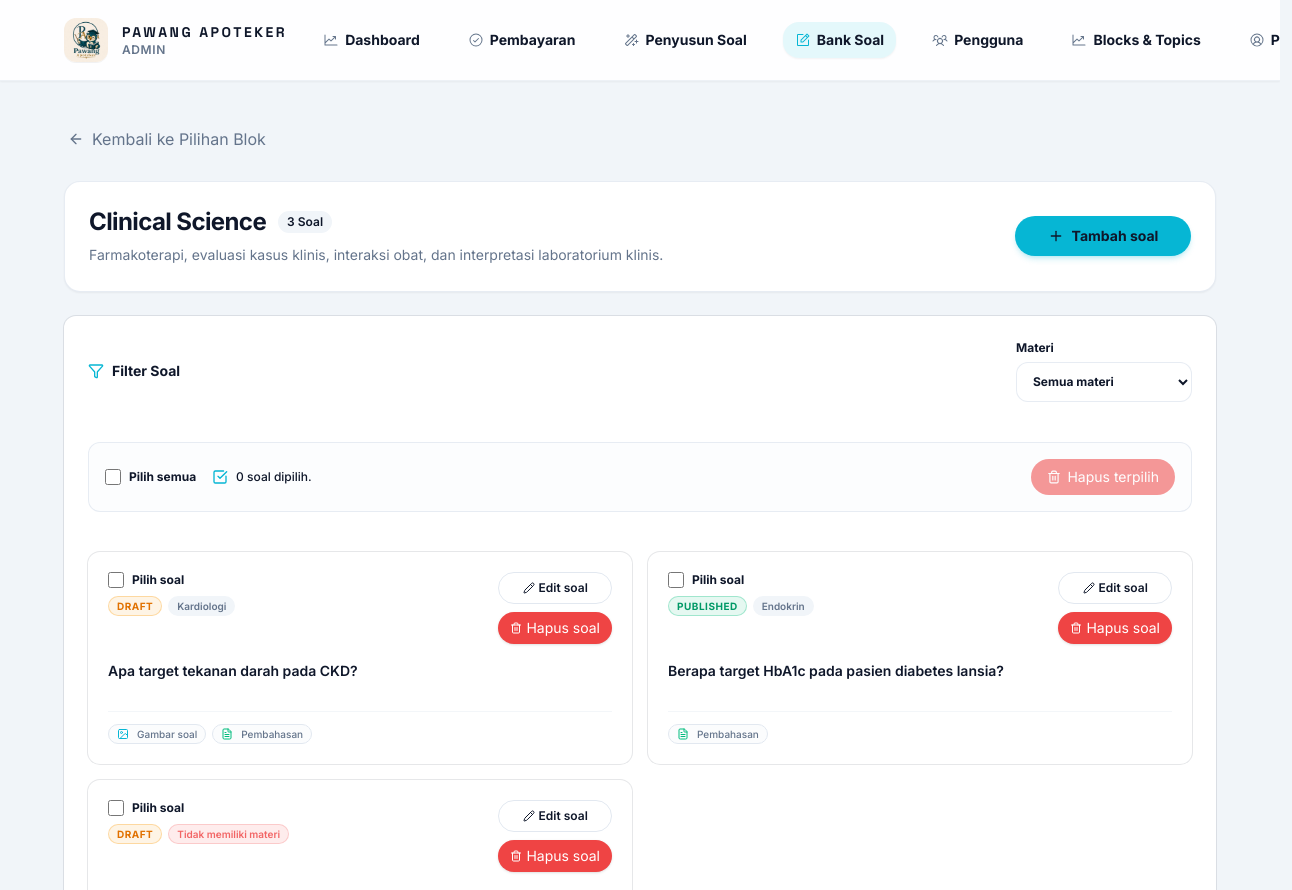
Test case: QuestionsPage - Block selection and list integration › clicking 'Kembali ke Pilihan Blok' navigates back to the 3 block cards
This screenshot has width=1292, height=890.
Expected: the heading "Clinical Science" is shown, [89,206,266,238]
Expected: the heading "Apa target tekanan darah pada CKD?" is shown, [108,662,358,679]
# Click back button
Step 1. Click the button "Kembali ke Pilihan Blok" → (167, 139), box [56,121,278,157]
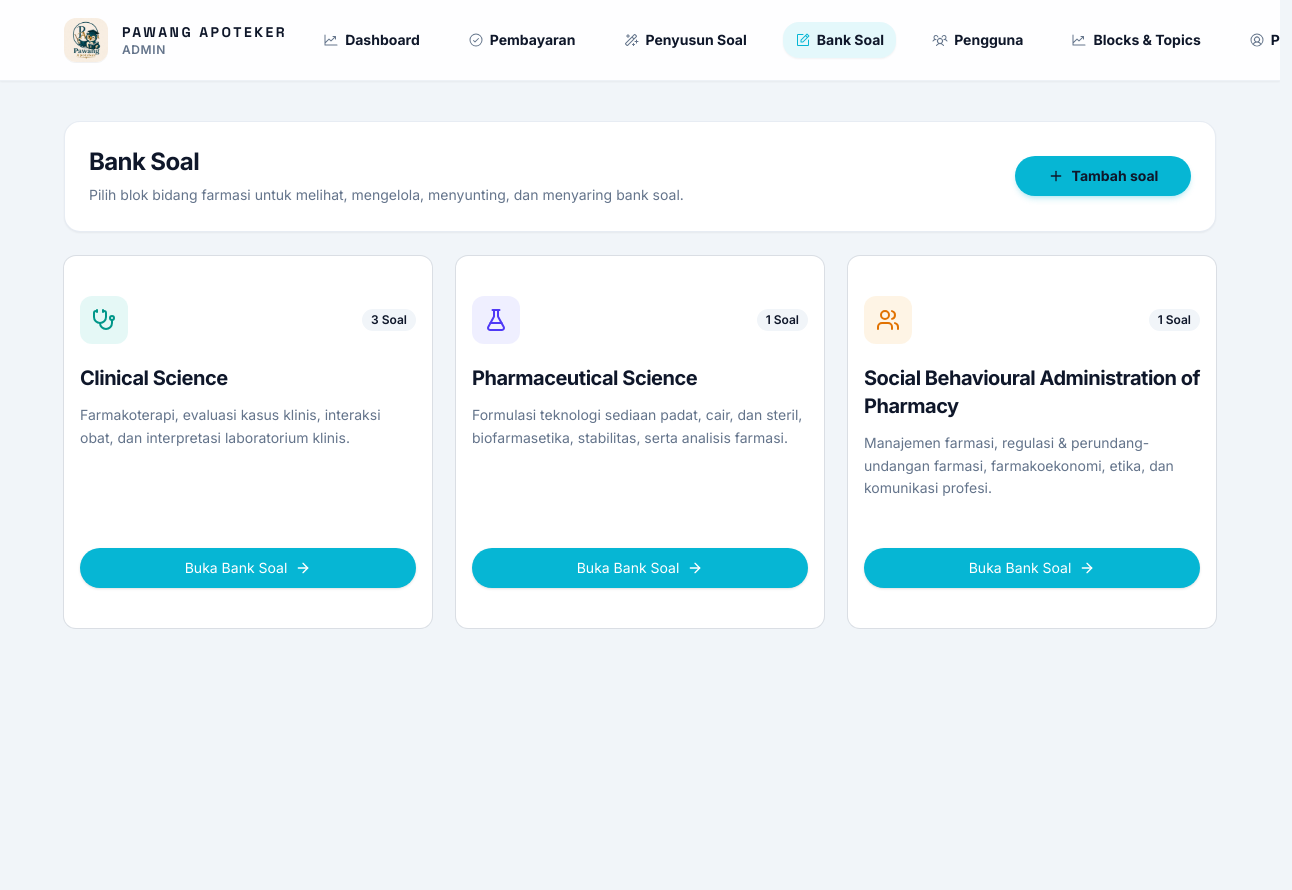
Expected: the element "Clinical Science" is shown, [64,256,432,628]
Expected: the element "Pharmaceutical Science" is shown, [456,256,824,628]
Expected: the element "Social Behavioural Administration of Pharmacy" is shown, [848,256,1216,628]
